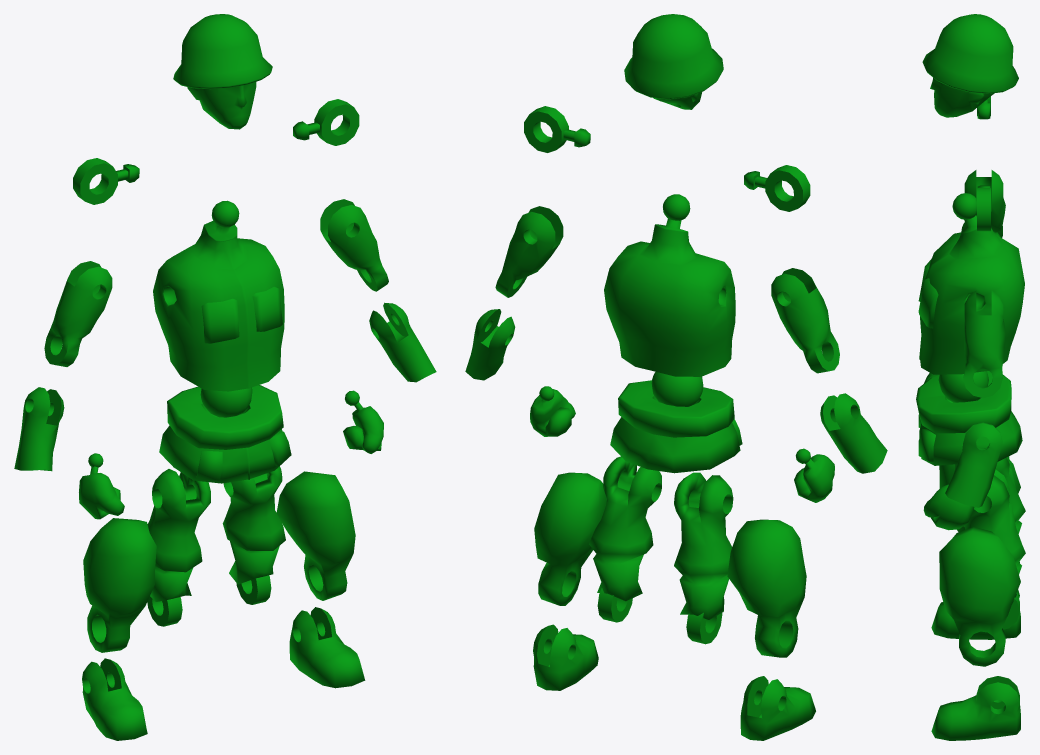
Rendered from solider-parts.fbx.
The picture shows the model from 3 angles, left to right: view 1: azimuth 30°, elevation 25°; view 2: azimuth 150°, elevation 25°; view 3: azimuth 270°, elevation 25°; orthographic projection. The views are drawn at different scales.
Visible parts, largest first — view 1: Gibs.004, Gibs.011, Gibs.015, Gibs.001, Gibs.016, Gibs.013, Gibs.012, Gibs.005, Gibs.014, Gibs, Gibs.006, Gibs.009 (+5 smaller); view 2: Gibs.004, Gibs.011, Gibs.015, Gibs.013, Gibs.012, Gibs.001, Gibs.016, Gibs.005, Gibs, Gibs.006, Gibs.014, Gibs.009 (+5 smaller); view 3: Gibs.004, Gibs.016, Gibs.001, Gibs.011, Gibs.014, Gibs.006, Gibs.007, Gibs.012, Gibs.008, Gibs.005, Gibs, Gibs.013 (+3 smaller).
Boxes of the visible parts, <box> form: Gibs.004: <box>153,200,284,417</box>; Gibs.011: <box>159,385,291,483</box>; Gibs.015: <box>83,518,156,652</box>; Gibs.001: <box>173,14,272,129</box>; Gibs.016: <box>276,471,355,600</box>; Gibs.013: <box>147,469,210,626</box>; Gibs.012: <box>222,466,285,604</box>; Gibs.005: <box>44,261,112,366</box>; Gibs.014: <box>289,607,365,688</box>; Gibs: <box>82,658,147,740</box>; Gibs.006: <box>320,199,388,291</box>; Gibs.009: <box>14,387,64,471</box>; Gibs.004: <box>604,194,735,406</box>; Gibs.011: <box>610,380,742,473</box>; Gibs.015: <box>727,519,806,657</box>; Gibs.013: <box>674,472,733,644</box>; Gibs.012: <box>589,456,661,622</box>; Gibs.001: <box>624,14,723,109</box>; Gibs.016: <box>534,472,606,605</box>; Gibs.005: <box>771,268,839,373</box>; Gibs: <box>740,676,815,740</box>; Gibs.006: <box>495,206,563,297</box>; Gibs.014: <box>533,624,598,690</box>; Gibs.009: <box>820,393,887,473</box>; Gibs.004: <box>918,193,1024,402</box>; Gibs.016: <box>939,527,1020,666</box>; Gibs.001: <box>922,14,1018,117</box>; Gibs.011: <box>916,371,1022,465</box>; Gibs.014: <box>931,676,1020,740</box>; Gibs.006: <box>963,290,1005,398</box>; Gibs.007: <box>945,422,1002,507</box>; Gibs.012: <box>964,469,1025,629</box>; Gibs.008: <box>923,484,974,530</box>; Gibs.005: <box>964,170,1005,237</box>; Gibs: <box>931,589,1020,639</box>; Gibs.013: <box>955,456,1025,562</box>.
Bounding box in the file's own units: 676 × 1073 × 161.
